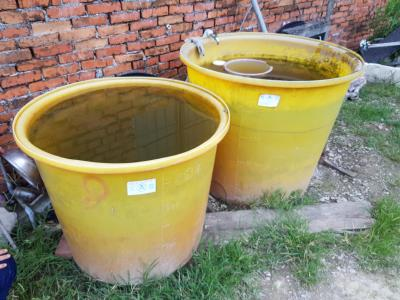bowl: (2, 149, 41, 190)
bucket: (10, 74, 234, 288), (177, 30, 368, 207)
